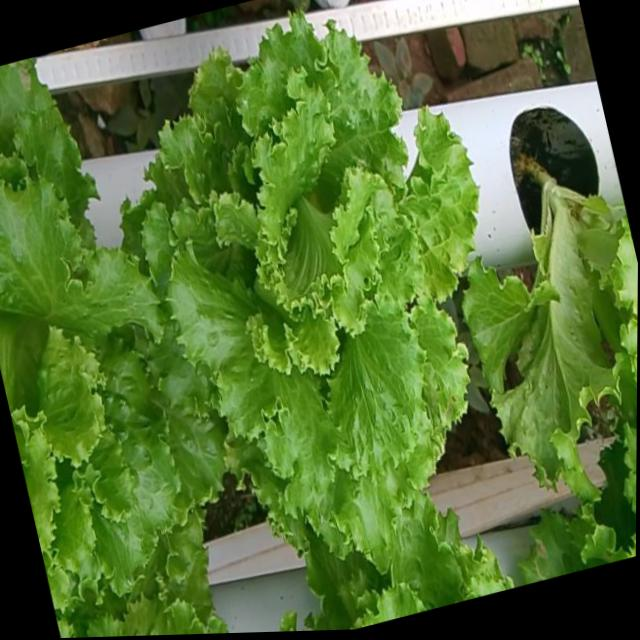Mature: (139, 9, 476, 548), (0, 160, 224, 586)
